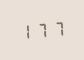one: (18, 22, 32, 40)
seven: (34, 20, 48, 39), (49, 19, 63, 38)
